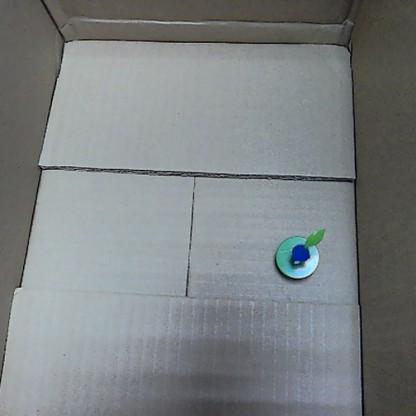leafairy: (270, 225, 326, 280)
